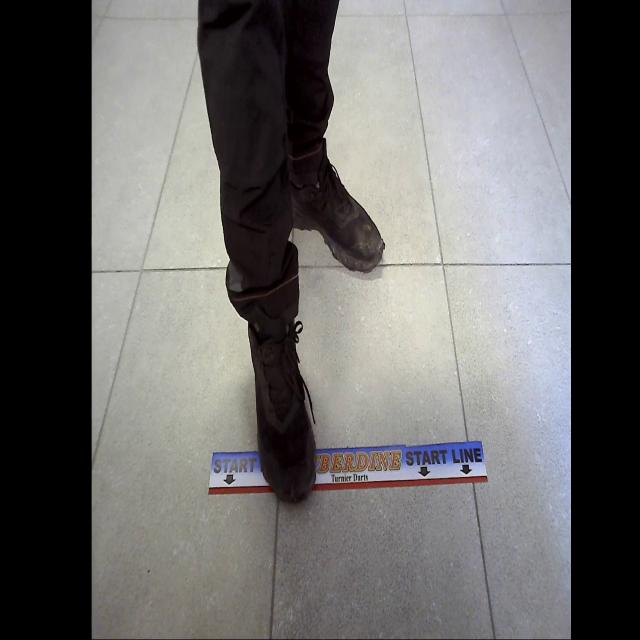foot: (245, 305, 318, 507), (287, 138, 385, 273)
